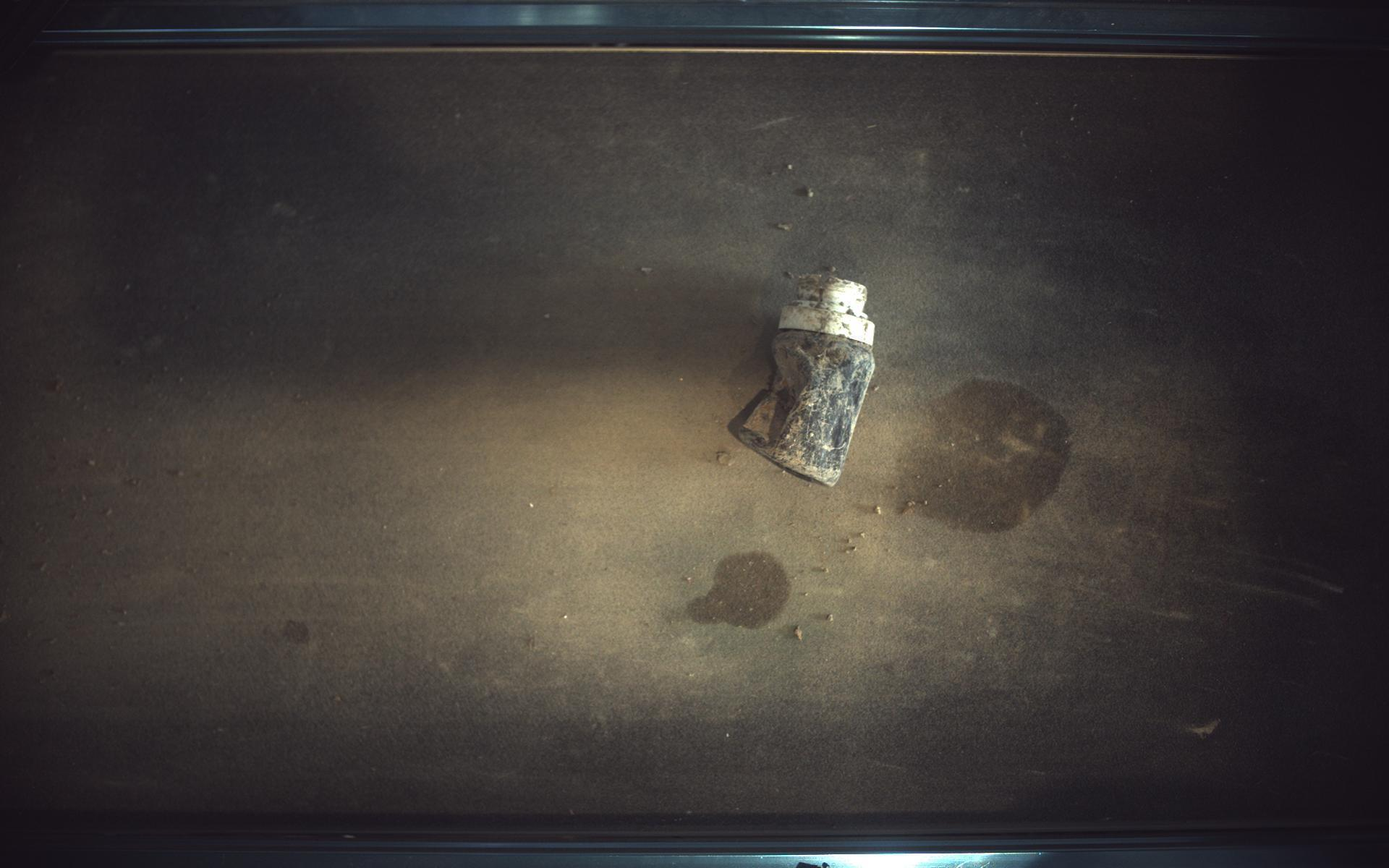general_w: (730, 269, 877, 485)
